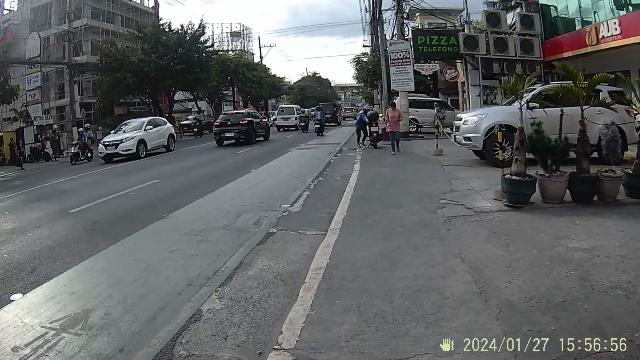potted_plant: (502, 146, 536, 212), (536, 148, 568, 206), (596, 144, 626, 204), (570, 146, 598, 202)
utility_post: (254, 34, 276, 86)
